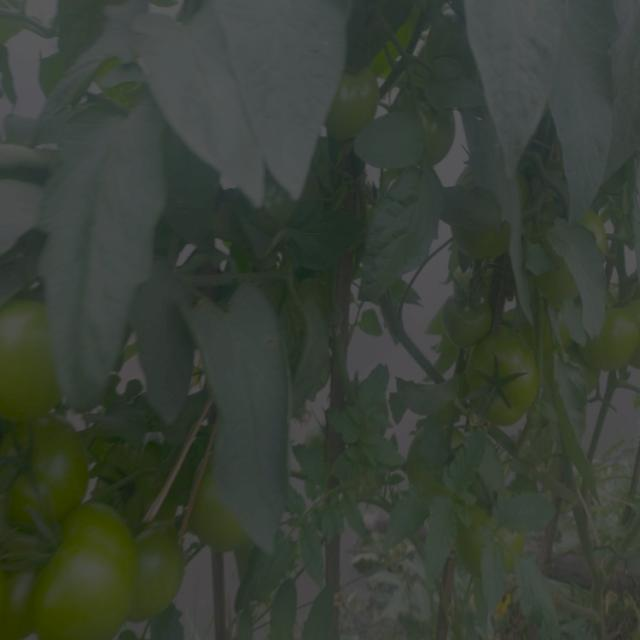tomato: (37, 501, 138, 640), (4, 420, 91, 530), (86, 432, 175, 532), (1, 305, 75, 420), (466, 327, 544, 433), (126, 517, 192, 619), (581, 301, 640, 380), (3, 520, 38, 636), (184, 493, 244, 558), (325, 67, 376, 140), (535, 265, 573, 309), (469, 491, 489, 563), (585, 201, 614, 247), (499, 522, 526, 571)
